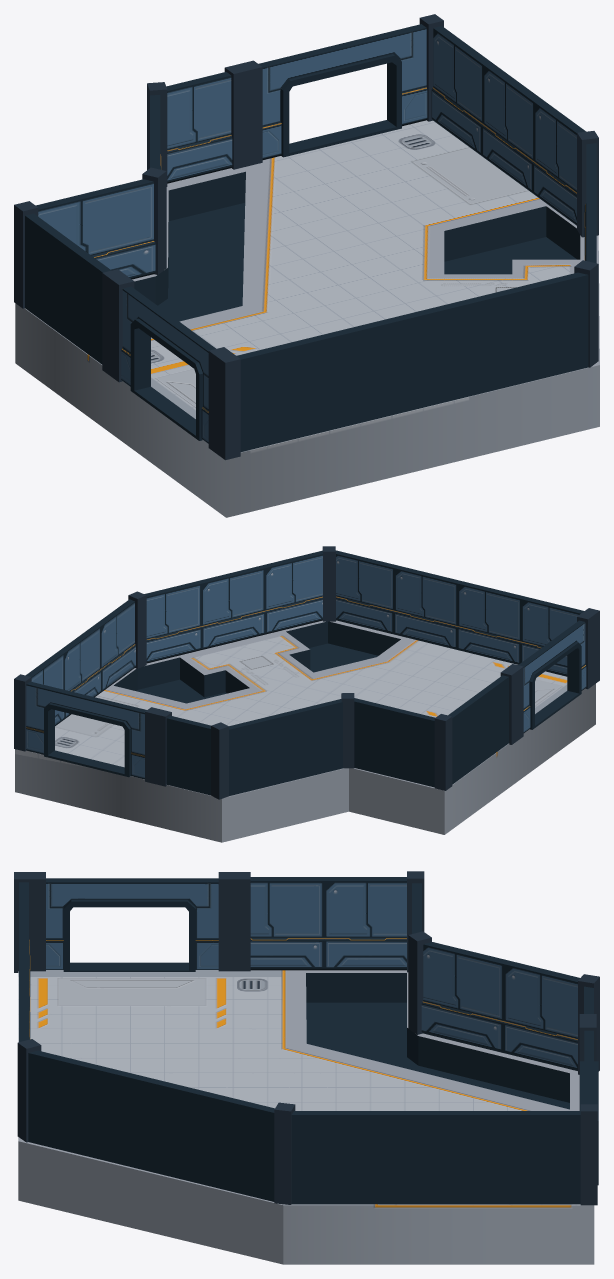
The model's file is Engine_PowerRoom.dae.
3 views of the same model, one above another, from view 1: azimuth 30°, elevation 25°; view 2: azimuth 150°, elevation 25°; view 3: azimuth 270°, elevation 25° (orthographic). The views are drawn at different scales.
Parts seen in each view (by area): view 1: Cube.036, Cube.124, Cube.040, Cube.032, Cube.197, Cube.181, Cube.119, Cube.039, Cube.101, Cube.106, Cube.099, Cube.103 (+7 smaller); view 2: Cube.036, Cube.124, Cube.035, Cube.041, Cube.032, Cube.040, Cube.181, Cube.197, Cube.119, Cube.039, Cube.106, Cube.102 (+7 smaller); view 3: Cube.036, Cube.040, Cube.035, Cube.197, Cube.041, Cube.119, Cube.099, Cube.101, Cube.105, Cube.204, Cube.124, Cube.103 (+5 smaller).
Boxes of the visible parts, x1,y1,x2,y2 form: Cube.036: (15, 120, 599, 517); Cube.124: (236, 272, 588, 451); Cube.040: (431, 26, 585, 225); Cube.032: (258, 24, 427, 159); Cube.197: (25, 213, 111, 364); Cube.181: (36, 179, 155, 279); Cube.119: (121, 286, 215, 443); Cube.039: (166, 72, 232, 183); Cube.101: (208, 347, 240, 460); Cube.106: (224, 60, 262, 169); Cube.099: (102, 269, 134, 382); Cube.103: (142, 167, 166, 274); Cube.036: (15, 620, 595, 842); Cube.124: (335, 550, 584, 676); Cube.035: (144, 550, 322, 663); Cube.041: (229, 699, 342, 795); Cube.032: (26, 681, 146, 779); Cube.040: (25, 599, 135, 725); Cube.181: (354, 698, 435, 787); Cube.197: (448, 675, 508, 784); Cube.119: (518, 620, 586, 732); Cube.039: (166, 715, 210, 795); Cube.106: (145, 707, 171, 786); Cube.102: (434, 714, 452, 790); Cube.036: (18, 970, 594, 1264); Cube.040: (291, 1111, 580, 1204); Cube.035: (28, 1050, 274, 1201); Cube.197: (250, 877, 406, 970); Cube.041: (421, 942, 579, 1070); Cube.119: (46, 878, 218, 971); Cube.099: (218, 872, 250, 971); Cube.101: (14, 872, 45, 972); Cube.105: (274, 1102, 295, 1204); Cube.204: (580, 1104, 597, 1205); Cube.124: (19, 882, 30, 1041); Cube.103: (408, 931, 431, 1034).
Size of the model in its own units: 17.42 by 17.89 by 5.16.
